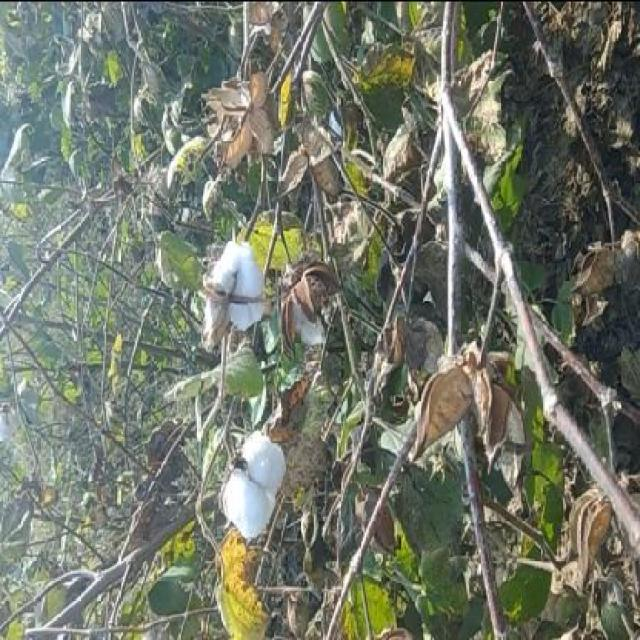cotton_ready: (197, 222, 280, 349), (213, 424, 299, 538)
